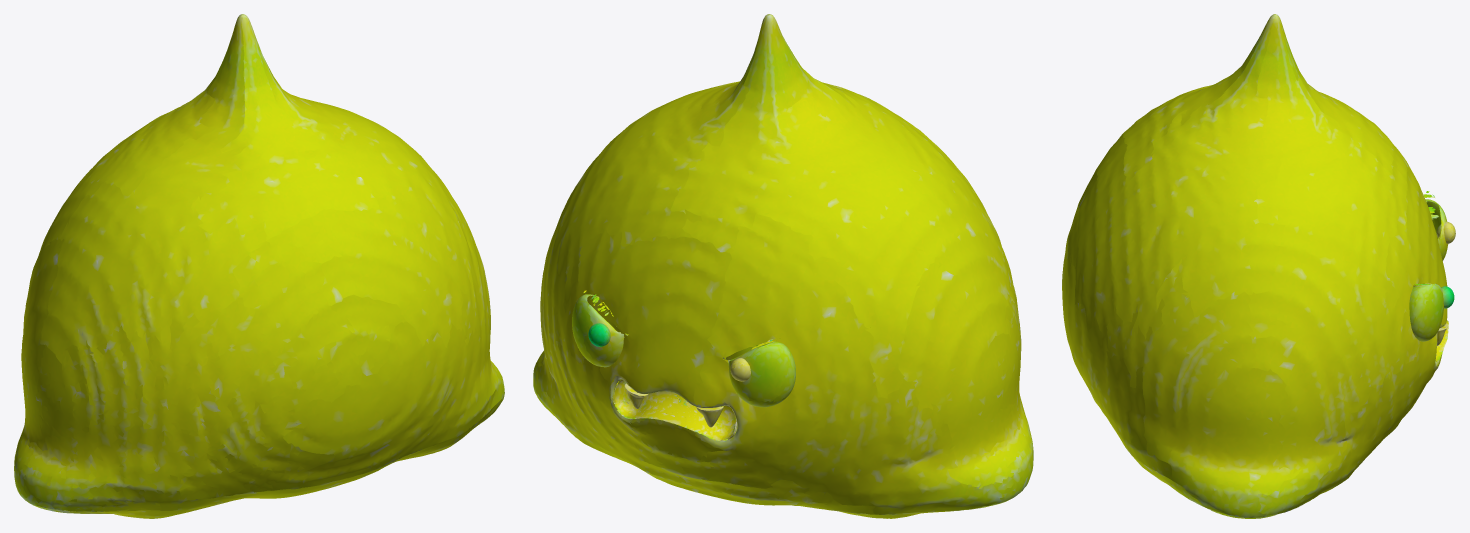
File: slime_outline.fbx
3 renders of one model, left to right at view 1: azimuth 30°, elevation 25°; view 2: azimuth 150°, elevation 25°; view 3: azimuth 270°, elevation 25°, orthographic. The views are drawn at different scales.
Visible parts, largest first — view 1: slime_outline; view 2: slime_outline; view 3: slime_outline.
Part boxes in pixels (box(x1,y1,x2,y2)): slime_outline: box(14, 14, 504, 518); slime_outline: box(533, 14, 1033, 518); slime_outline: box(1062, 14, 1455, 518).
Size of the model in its own units: 195 by 180 by 152.
